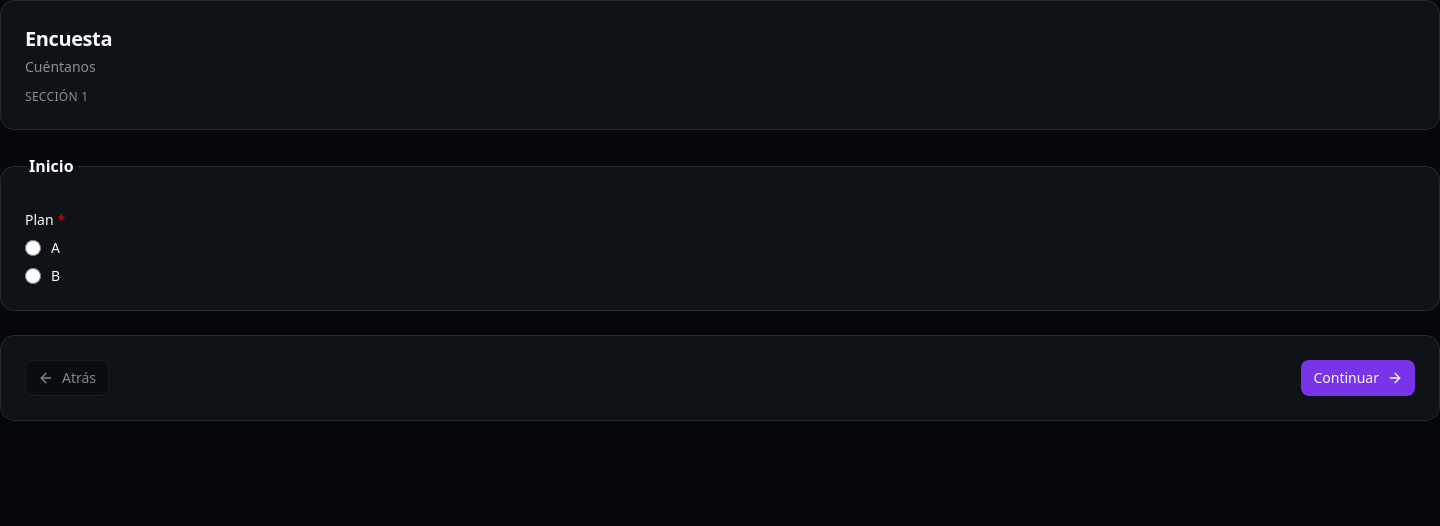
Test: RenderizadorFormulario con lógica IF › oculta la pregunta cuya condición no se cumple
Expected: the field labelled "Detalle" is not shown
Click the radio button labelled "A".
click(33, 248)  # box 25,240 -> 41,256
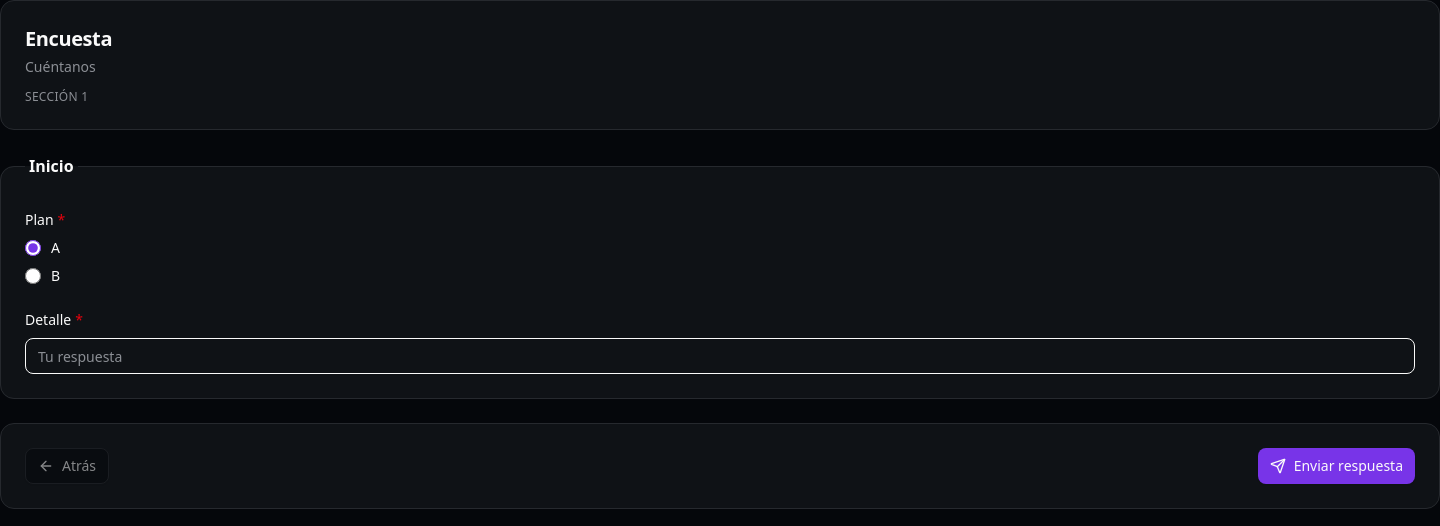
Result: the field labelled "Detalle*" is shown at 25,338 -> 1415,374
